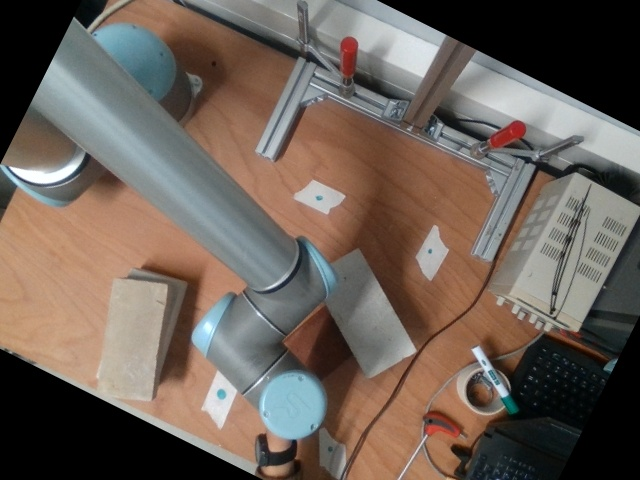brick: (99, 278, 168, 400)
